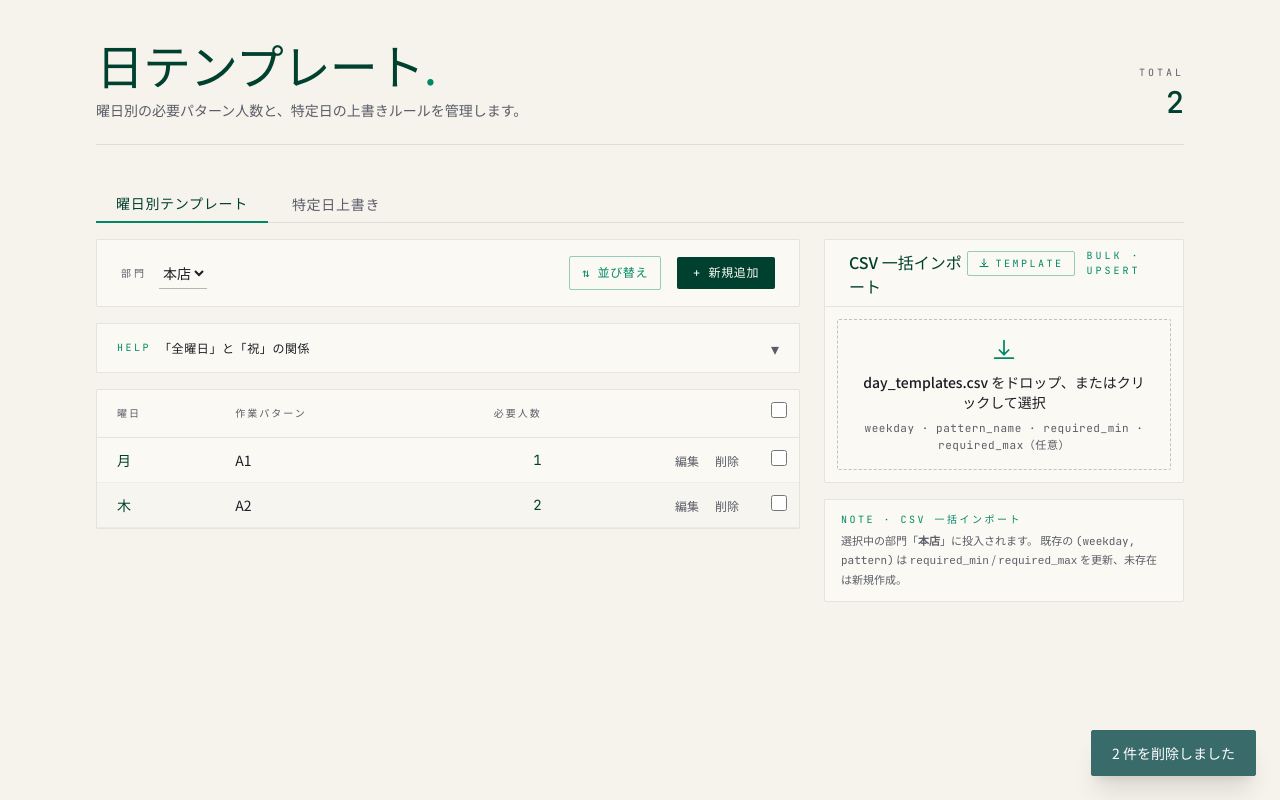
Test: DayTemplatesPage — bulk delete › "全選択" header checkbox toggles all rows
This screenshot has width=1280, height=800.
Expected: the text "月" is shown, [97,438,223,482]
Click the checkbox named "全選択".
click(779, 410)  # box [771,402,787,418]
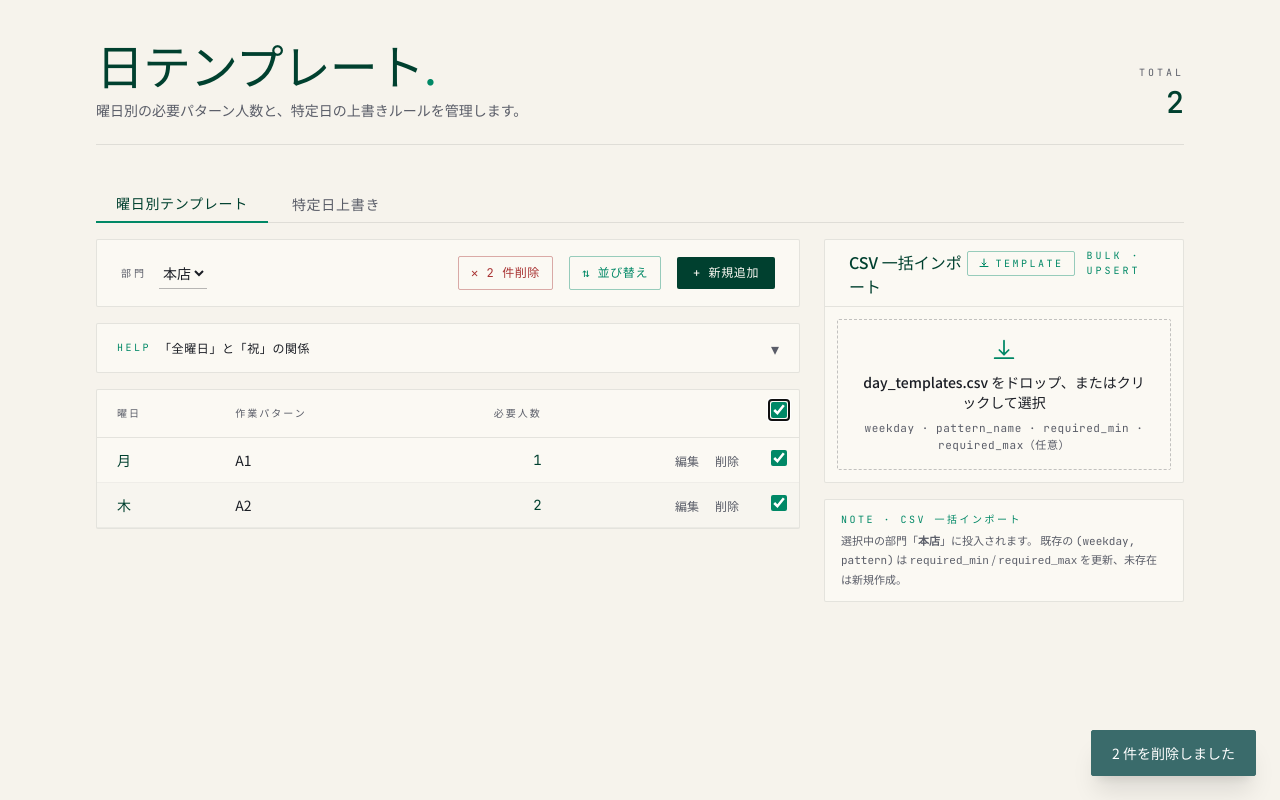
Expected: the button "✕ 2 件削除" is shown, [458,256,553,290]
